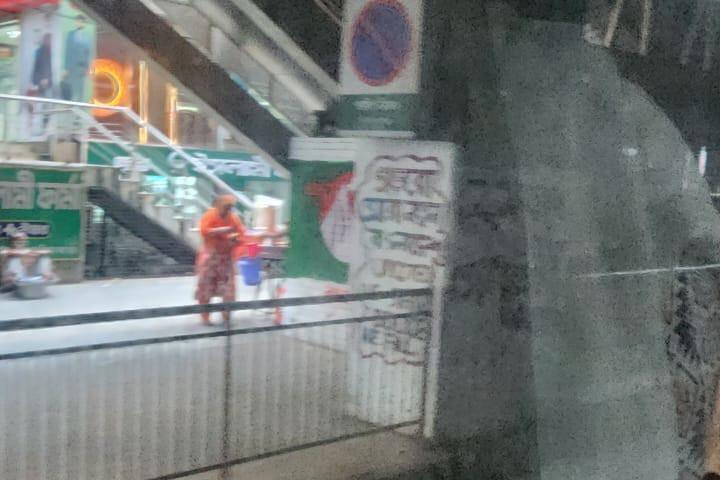No Parking: (332, 0, 426, 135)
